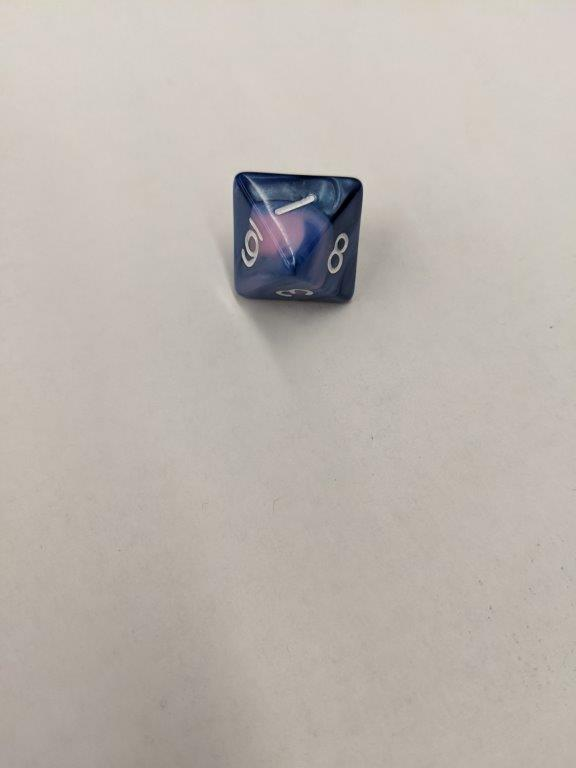d8-1: (231, 169, 363, 305)
